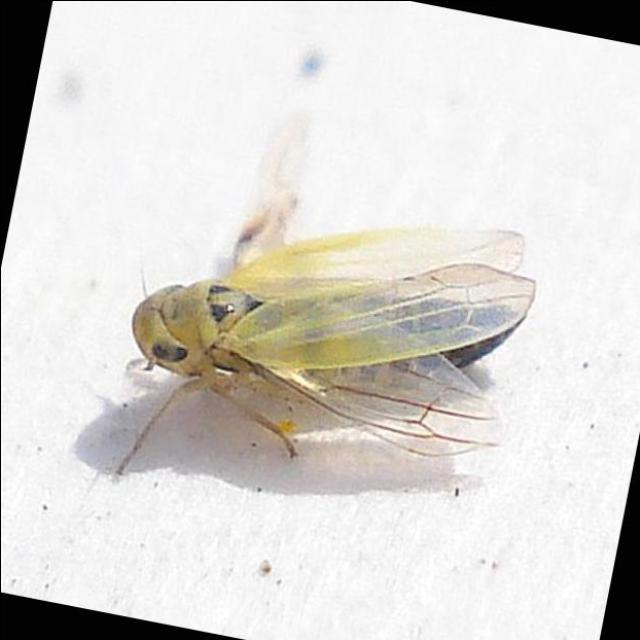green leaf hopper: (132, 163, 535, 456)
